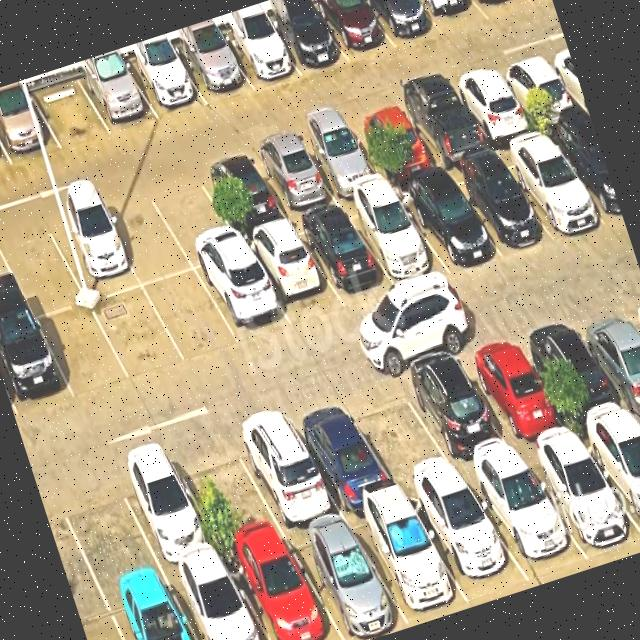empty: (167, 429, 285, 554), (50, 463, 162, 593), (340, 374, 460, 493), (146, 170, 244, 269), (98, 189, 193, 286), (91, 286, 186, 381), (143, 271, 240, 363), (37, 304, 130, 399), (0, 220, 86, 318), (30, 76, 111, 149)
occupied: (346, 497, 471, 627), (394, 352, 520, 477), (284, 518, 410, 640), (406, 480, 530, 602), (226, 405, 343, 534), (454, 333, 575, 457), (465, 459, 588, 580), (108, 445, 222, 572), (522, 440, 640, 560), (283, 392, 399, 514), (521, 314, 635, 435), (224, 537, 343, 640), (495, 137, 607, 237), (242, 224, 345, 328), (394, 177, 503, 274), (293, 207, 397, 308), (443, 159, 551, 256), (343, 193, 451, 288), (43, 204, 141, 302), (165, 556, 268, 640), (197, 255, 293, 344), (570, 299, 640, 416), (546, 122, 624, 224), (196, 153, 289, 238), (395, 88, 492, 169), (0, 316, 75, 418), (248, 138, 339, 218), (294, 123, 386, 200), (345, 105, 438, 181), (449, 70, 538, 146), (496, 54, 584, 129), (580, 418, 640, 527), (264, 4, 349, 76), (104, 574, 196, 640), (123, 50, 208, 120), (77, 63, 159, 134), (218, 22, 301, 89), (311, 0, 396, 63), (175, 37, 253, 104), (0, 91, 61, 165), (364, 0, 443, 48), (416, 0, 489, 37), (474, 0, 534, 19)
